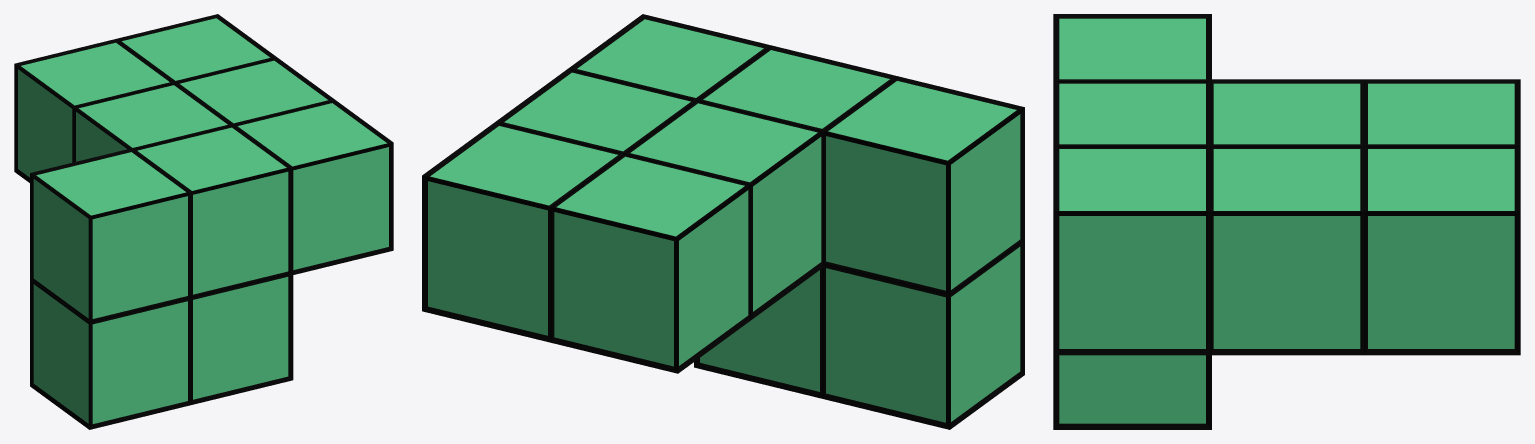
The picture shows the model from 3 angles, left to right: view 1: azimuth 30°, elevation 25°; view 2: azimuth 150°, elevation 25°; view 3: azimuth 270°, elevation 25°; orthographic projection. The views are drawn at different scales.
Visible parts, largest first — view 1: a4:Mesh; view 2: a4:Mesh; view 3: a4:Mesh.
Part boxes in pixels (x1=…): a4:Mesh: x1=14, y1=14, x2=393, y2=429; a4:Mesh: x1=422, y1=14, x2=1024, y2=429; a4:Mesh: x1=1053, y1=14, x2=1520, y2=429.
Size of the model in its own units: 6.06 by 4.06 by 6.06.
